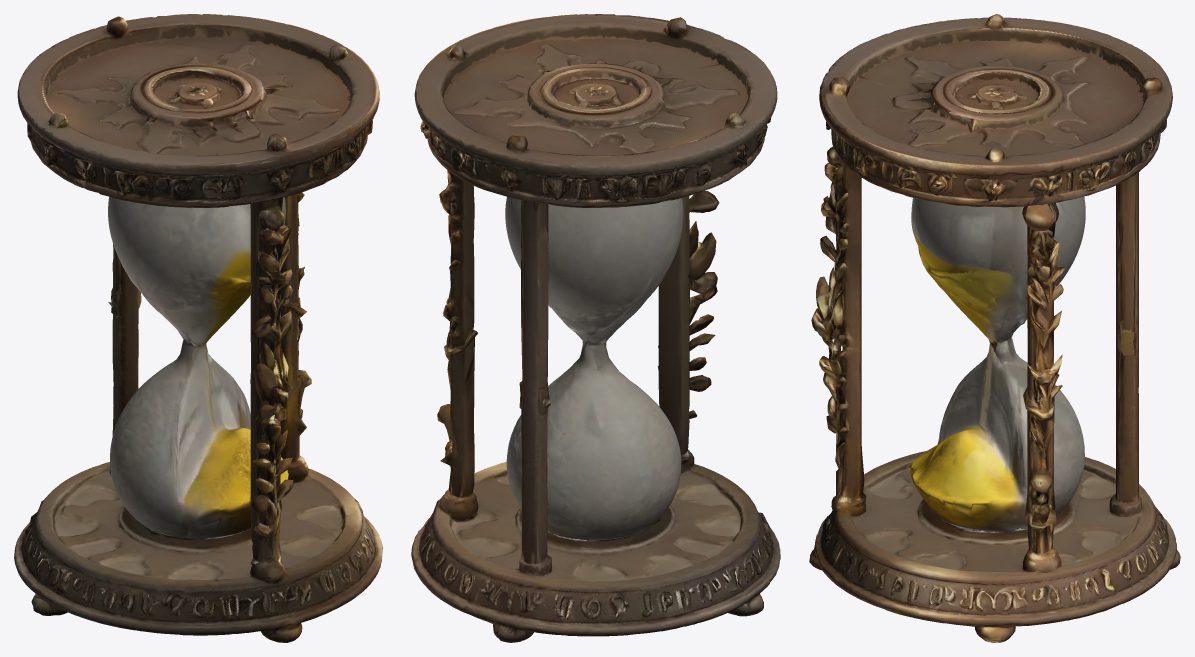
File: end-turn-hourglass.glb
3 renders of one model, left to right at view 1: azimuth 30°, elevation 25°; view 2: azimuth 150°, elevation 25°; view 3: azimuth 270°, elevation 25°, orthographic. The views are drawn at different scales.
Visible parts, largest first — view 1: tripo_node_314836fb-fb24-4d70-8676-0ced616c1d8f; view 2: tripo_node_314836fb-fb24-4d70-8676-0ced616c1d8f; view 3: tripo_node_314836fb-fb24-4d70-8676-0ced616c1d8f.
Boxes of the visible parts, <box> form: tripo_node_314836fb-fb24-4d70-8676-0ced616c1d8f: <box>14,14,382,642</box>; tripo_node_314836fb-fb24-4d70-8676-0ced616c1d8f: <box>411,14,780,642</box>; tripo_node_314836fb-fb24-4d70-8676-0ced616c1d8f: <box>809,14,1180,642</box>.
Size of the model in its own units: 0.6959 by 0.999 by 0.6897.
Materials: 1 (1 with a texture image).
